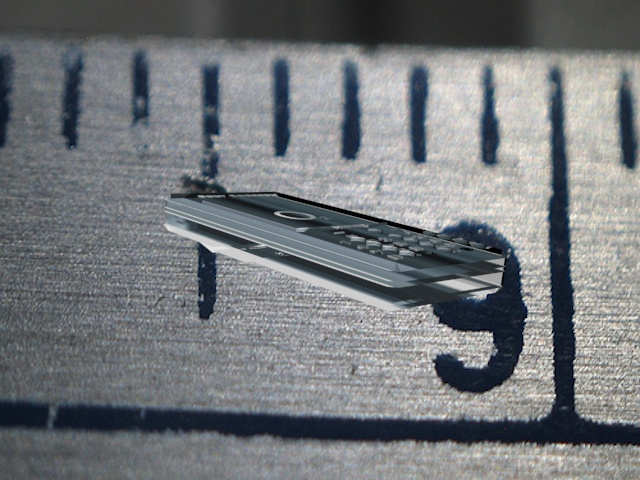mobile_phone: (160, 185, 512, 320)
